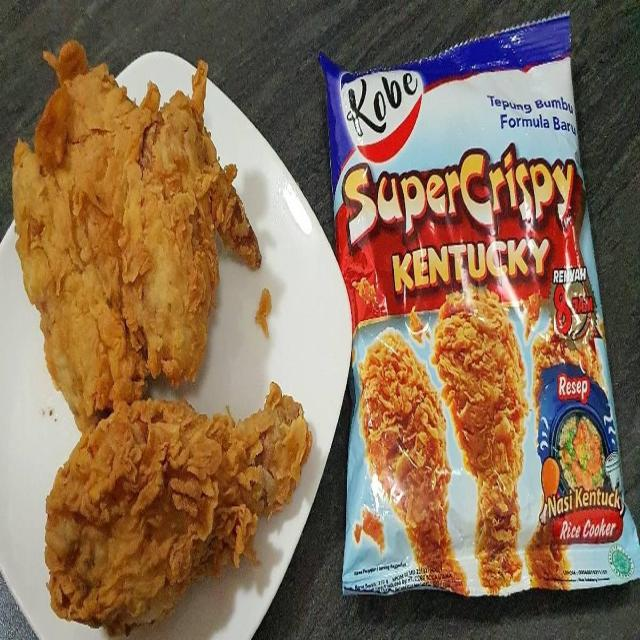Chicken -Fried Chicken-: (12, 38, 259, 414), (46, 394, 308, 633)
